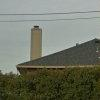Chimney: (24, 22, 50, 60)
